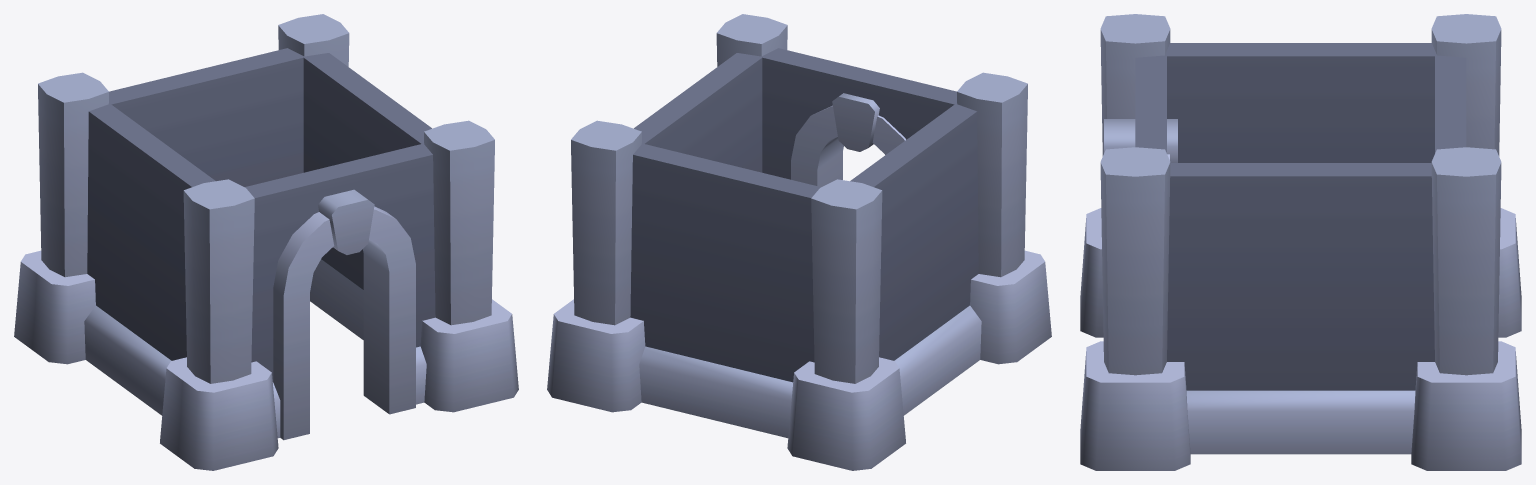
Rendered from crypt-small.glb.
3 renders of one model, left to right at view 1: azimuth 30°, elevation 25°; view 2: azimuth 150°, elevation 25°; view 3: azimuth 270°, elevation 25°, orthographic. The views are drawn at different scales.
Parts seen in each view (by area): view 1: crypt-small; view 2: crypt-small; view 3: crypt-small.
Boxes of the visible parts, box(x1,y1,x2,y2) form: crypt-small: box(14, 14, 518, 470); crypt-small: box(547, 14, 1051, 470); crypt-small: box(1080, 14, 1521, 470).
Size of the model in its own units: 1.35 by 1 by 1.4.
Materials: 1 (1 with a texture image).
